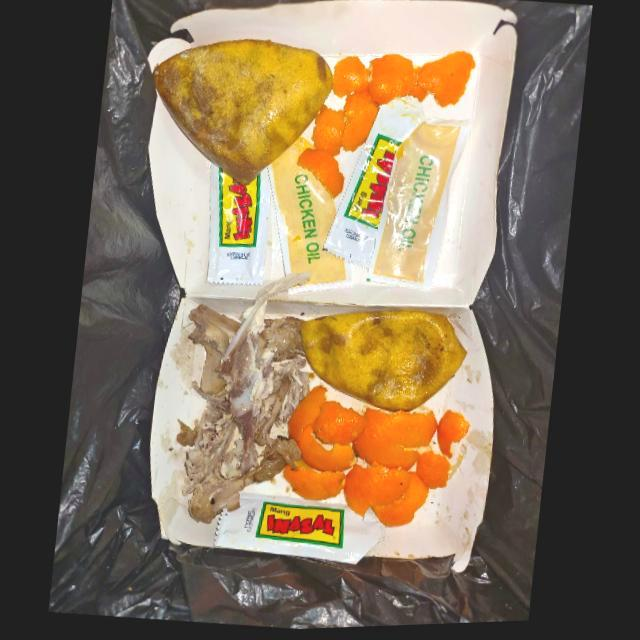left_over_food: (175, 272, 314, 525)
plastic_sachet: (366, 120, 472, 293), (322, 97, 425, 269), (267, 121, 354, 296), (213, 493, 386, 566), (206, 164, 269, 287)
